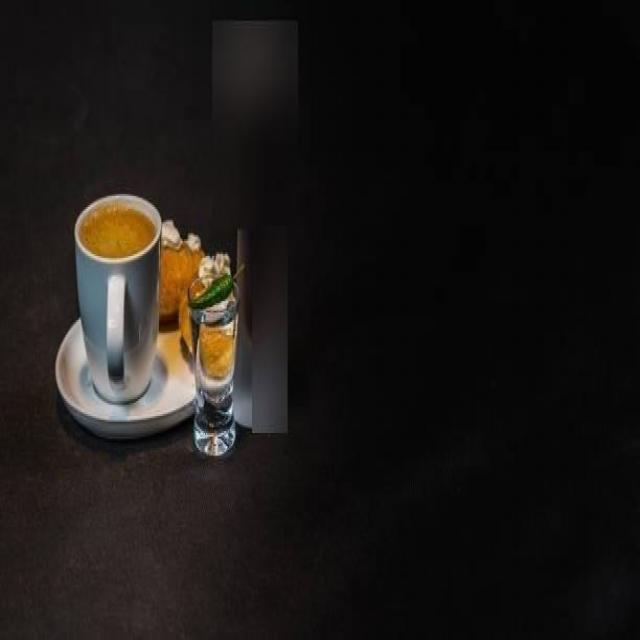cup-handle: (73, 192, 163, 405)
glass-normal: (187, 269, 241, 459)
